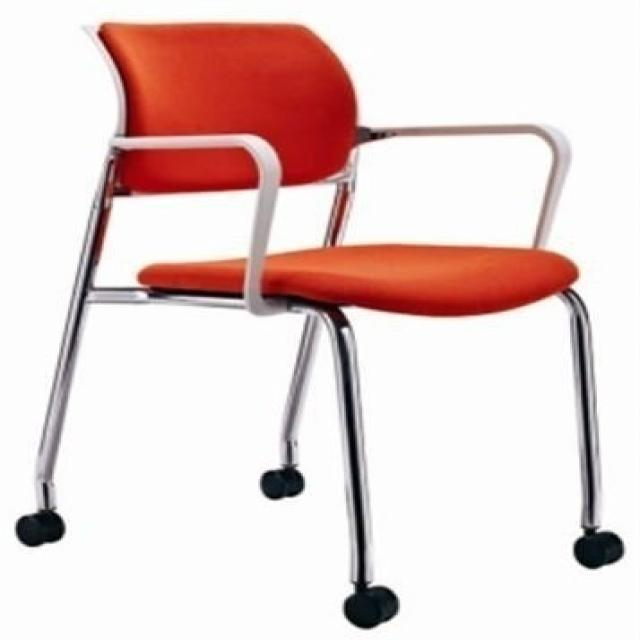chair: (18, 13, 628, 633)
